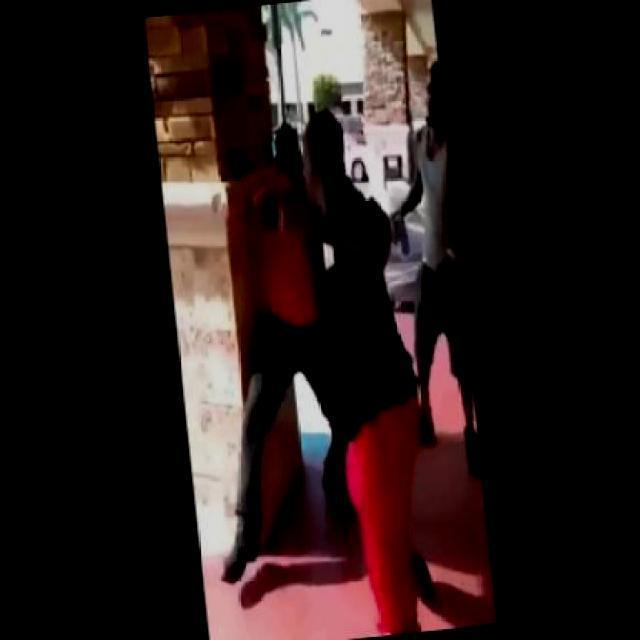fight: (212, 107, 446, 627)
